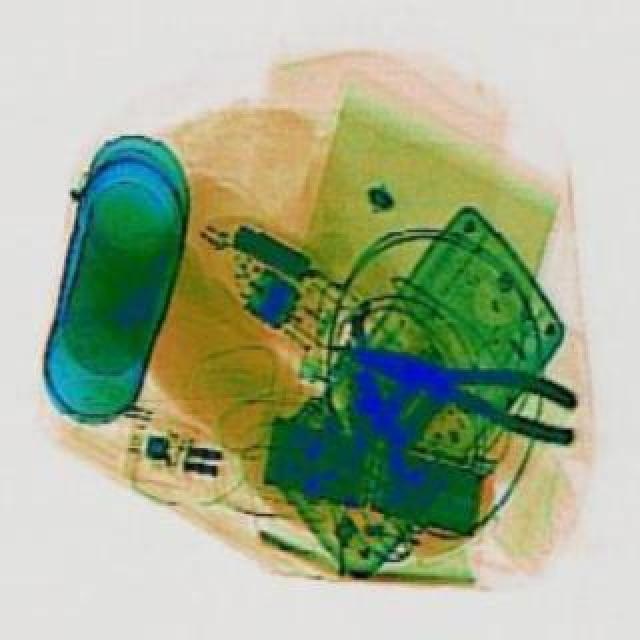wrench: (342, 316, 588, 444)
